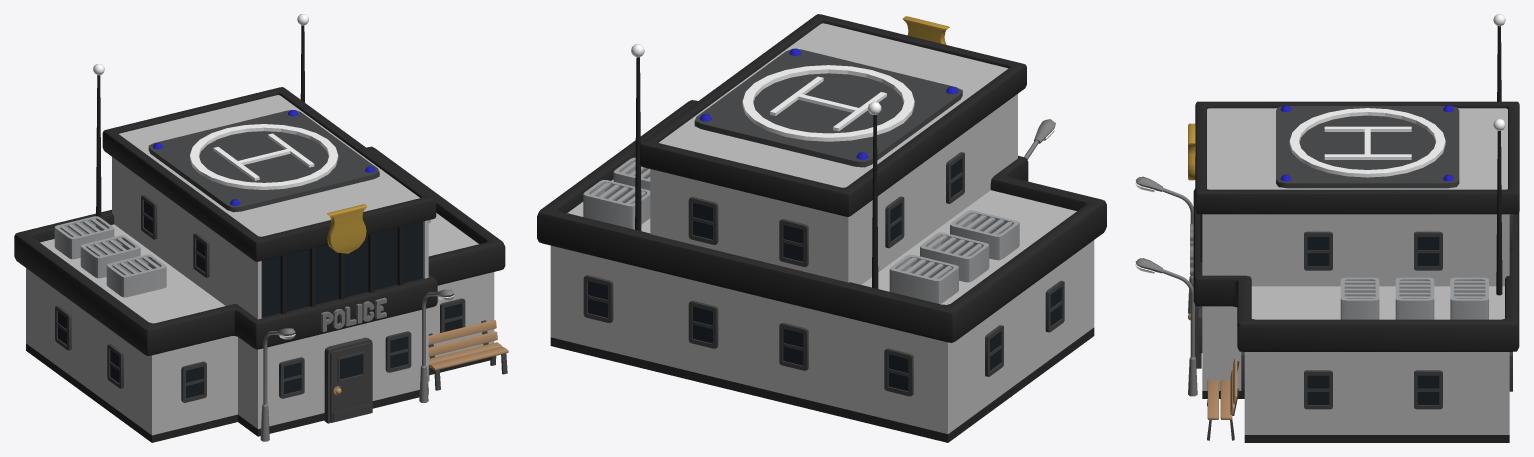
The model's file is SM_policestation.fbx.
3 views of the same model, side by side, from view 1: azimuth 30°, elevation 25°; view 2: azimuth 150°, elevation 25°; view 3: azimuth 270°, elevation 25° (orthographic). The views are drawn at different scales.
Parts seen in each view (by area): view 1: Box050; view 2: Box050; view 3: Box050.
Boxes of the visible parts, x1,y1,x2,y2 form: Box050: (14,14,508,442); Box050: (537,14,1106,442); Box050: (1135,14,1519,442).
Size of the model in its own units: 406 by 295 by 357.
